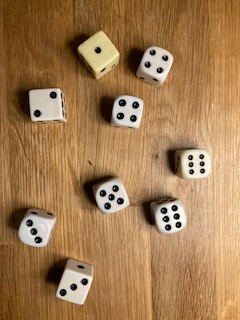five: (91, 176, 132, 213)
four: (134, 43, 175, 87), (109, 93, 144, 130)
one: (73, 28, 121, 80)
six: (148, 194, 189, 235), (173, 146, 212, 180)
three: (53, 256, 95, 306), (15, 206, 59, 248)
two: (26, 85, 69, 126)
